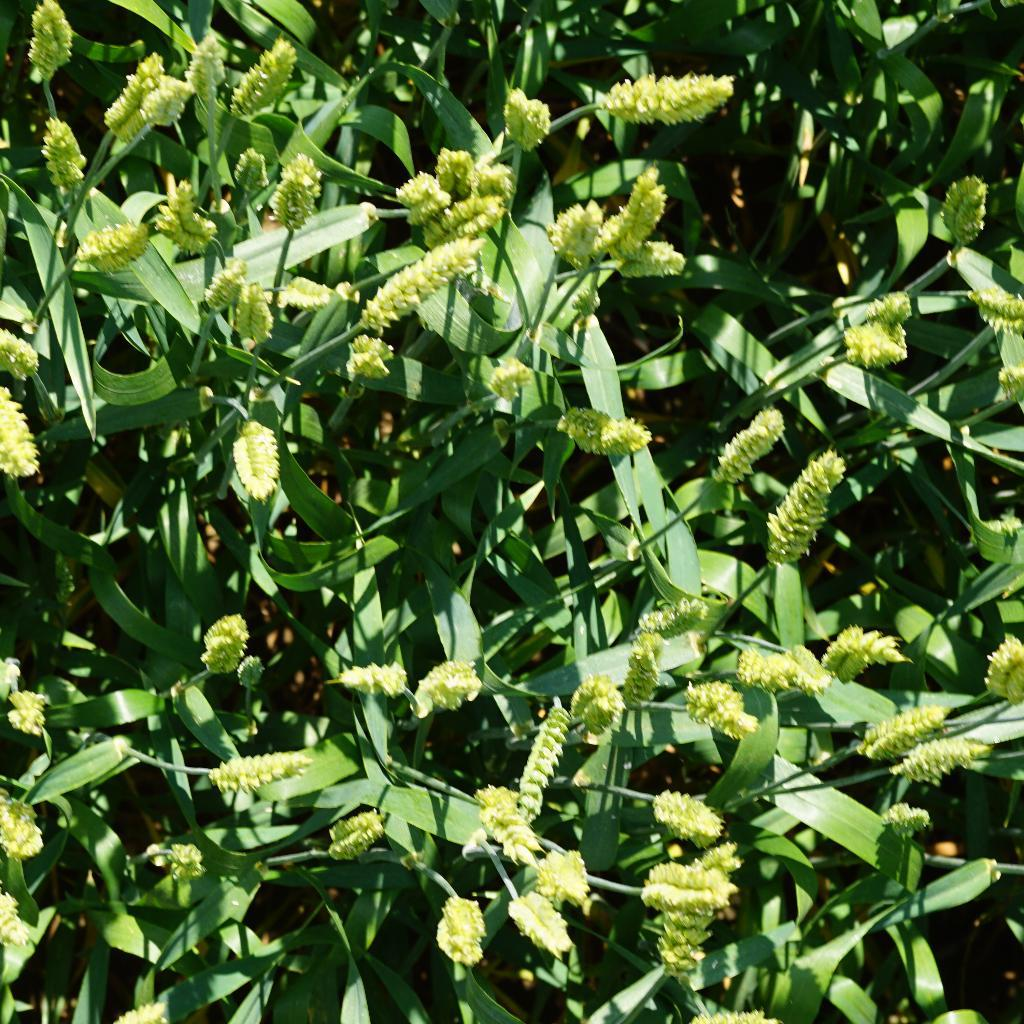0-0: (337, 219, 494, 342), (645, 835, 748, 1002), (751, 436, 856, 578), (591, 838, 744, 919), (507, 688, 582, 825), (601, 53, 743, 124), (706, 396, 790, 488), (549, 393, 659, 463), (602, 159, 668, 275), (811, 618, 915, 691), (220, 407, 299, 500), (602, 217, 701, 290), (231, 27, 302, 127), (6, 0, 81, 86), (421, 186, 524, 248), (478, 774, 550, 862), (680, 672, 768, 744), (847, 702, 952, 761), (421, 884, 489, 975), (194, 743, 316, 793), (97, 41, 156, 143), (503, 878, 580, 956), (144, 176, 215, 260), (0, 838, 52, 952), (889, 732, 991, 788), (635, 783, 732, 841), (926, 160, 989, 247), (62, 217, 159, 272), (530, 843, 602, 916), (410, 653, 486, 722), (27, 109, 90, 189), (268, 150, 326, 235), (183, 40, 235, 133), (840, 317, 930, 369), (630, 592, 715, 646), (0, 373, 44, 477), (198, 606, 253, 687), (497, 85, 560, 154), (568, 665, 627, 737), (336, 651, 413, 706), (324, 804, 394, 863), (870, 780, 935, 843), (230, 281, 286, 354), (620, 630, 666, 716), (542, 191, 605, 253), (335, 329, 400, 388), (471, 354, 546, 404), (0, 783, 47, 860), (223, 142, 275, 208), (730, 640, 792, 695), (3, 688, 62, 744), (428, 131, 481, 193), (202, 257, 253, 321), (0, 310, 43, 385), (780, 641, 836, 695), (273, 264, 336, 311), (148, 75, 194, 139), (976, 641, 1024, 702), (968, 284, 1024, 335), (389, 164, 444, 215), (161, 828, 210, 884), (858, 280, 909, 330), (225, 649, 277, 697), (477, 153, 515, 216), (567, 281, 603, 319), (813, 1012, 858, 1024)
